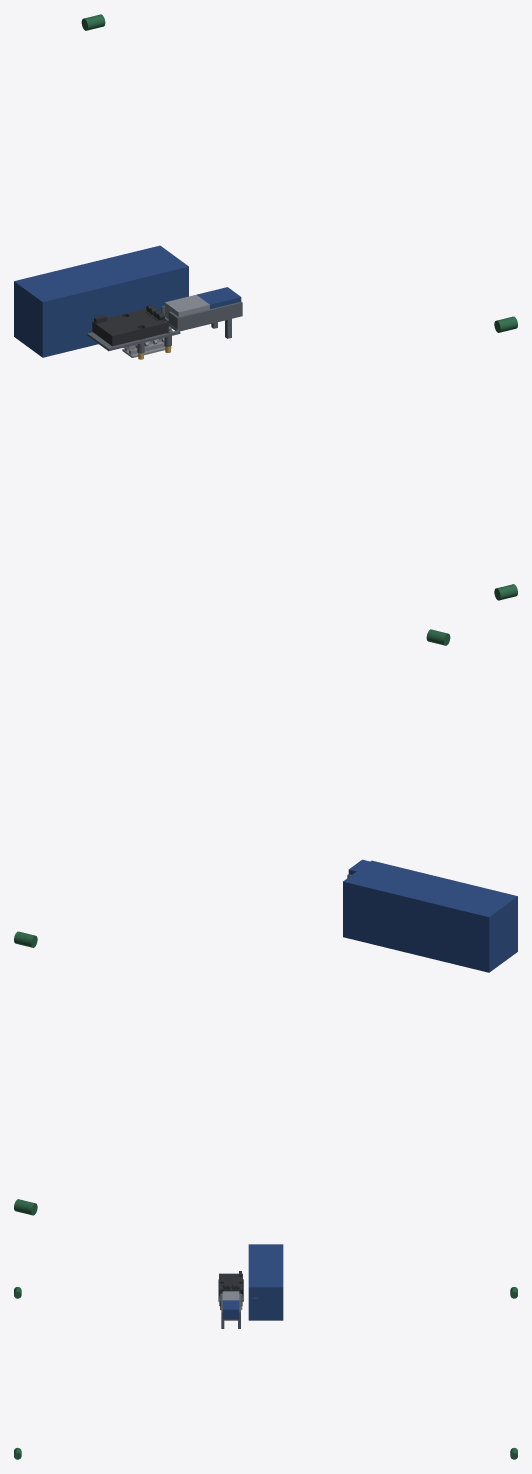
File: power.glb
3 renders of one model, top to bottom at view 1: azimuth 30°, elevation 25°; view 2: azimuth 150°, elevation 25°; view 3: azimuth 270°, elevation 25°, orthographic. The views are drawn at different scales.
Visible parts, largest first — view 1: PWR-001, PWR-003, PWR-006, PWR-002; view 2: PWR-001; view 3: PWR-001, PWR-003, PWR-006.
Part boxes in pixels (x1,y1,x2,y2): PWR-001: (14,245,241,357); PWR-003: (92,305,168,346); PWR-006: (87,301,242,351); PWR-002: (165,295,209,318); PWR-001: (343,859,517,972); PWR-001: (222,1244,283,1320); PWR-003: (219,1271,242,1296); PWR-006: (218,1279,243,1328).
Bounding box in the file's own units: 0.2585 × 0.246 × 0.6696.
